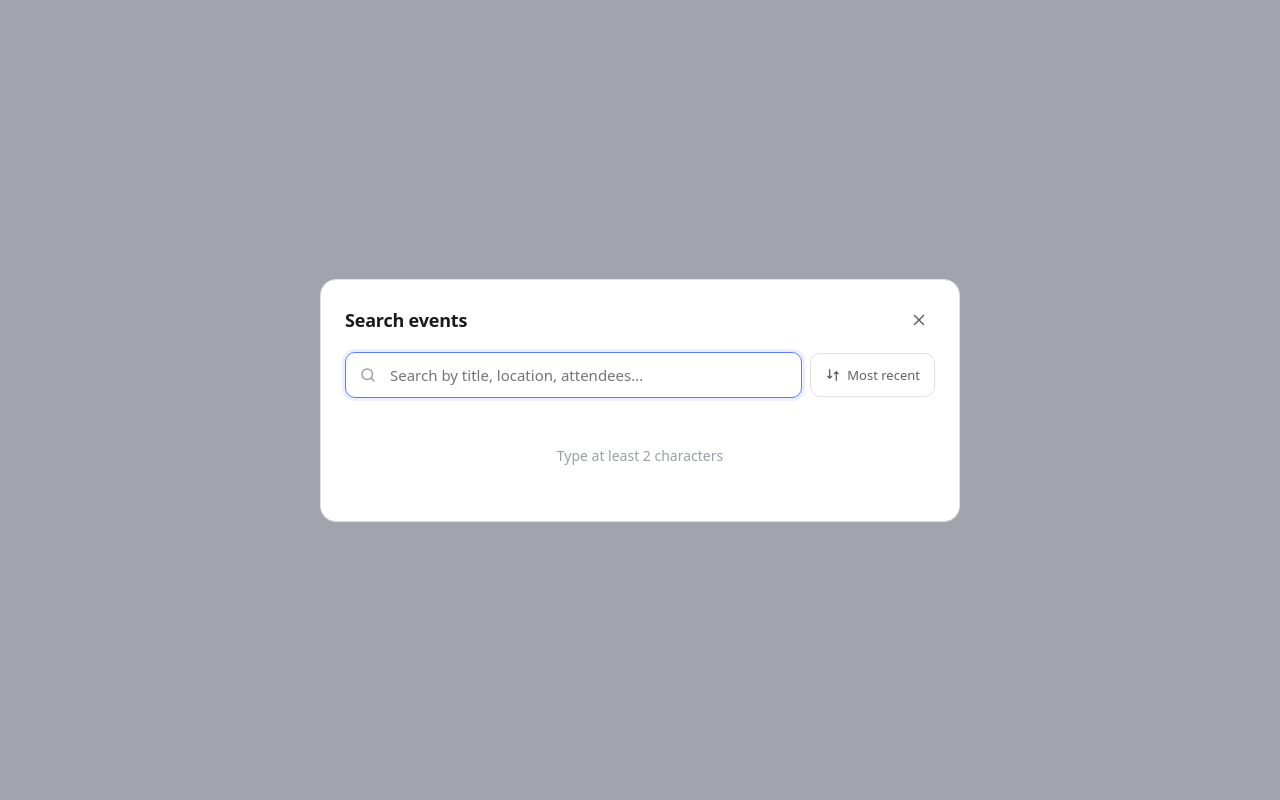
Scenario: eventSearchDialog keyboard nav › closes the sort menu on Tab with shift=false
The width and height of the screenshot is (1280, 800).
Click the button with aria-label "sort" at (873, 374), box [810, 352, 935, 396]
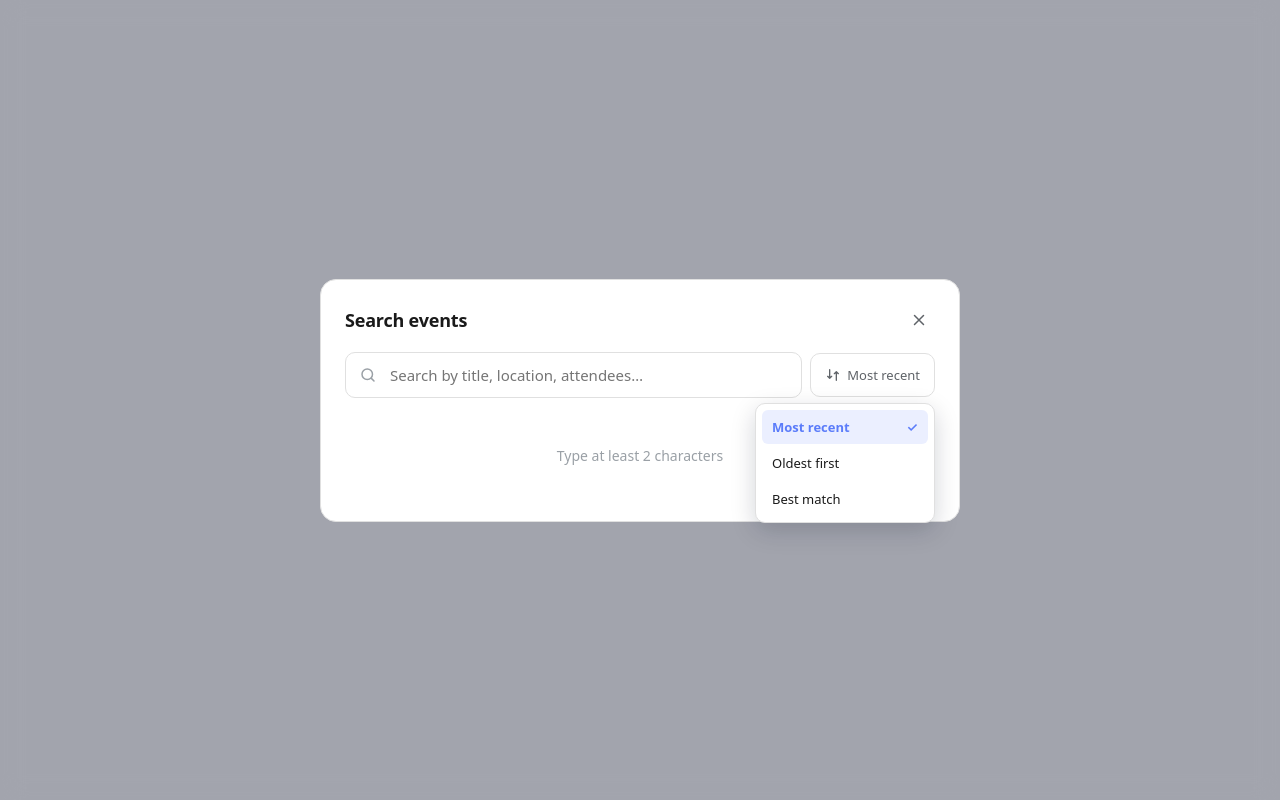
Press Tab in the menu item "Most recent ✓", box [762, 410, 928, 444]
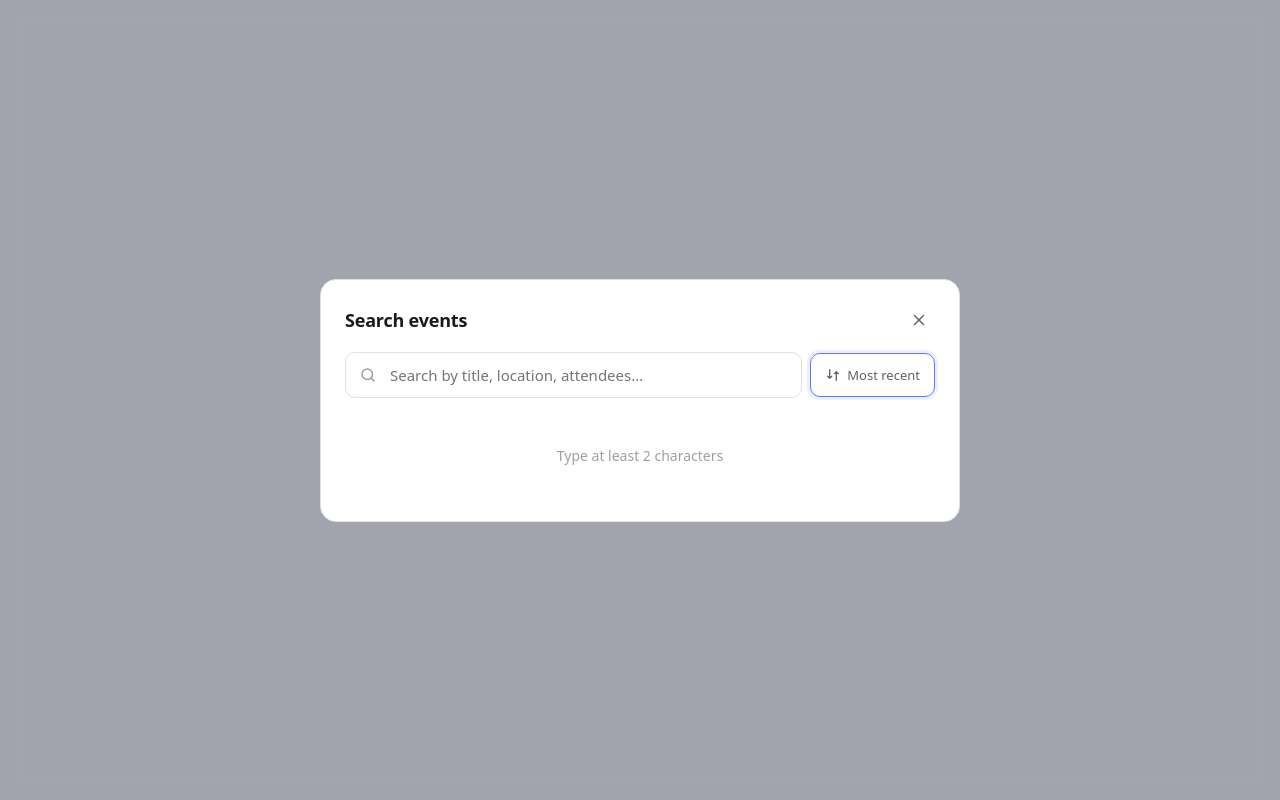
Expected: the menu is gone
